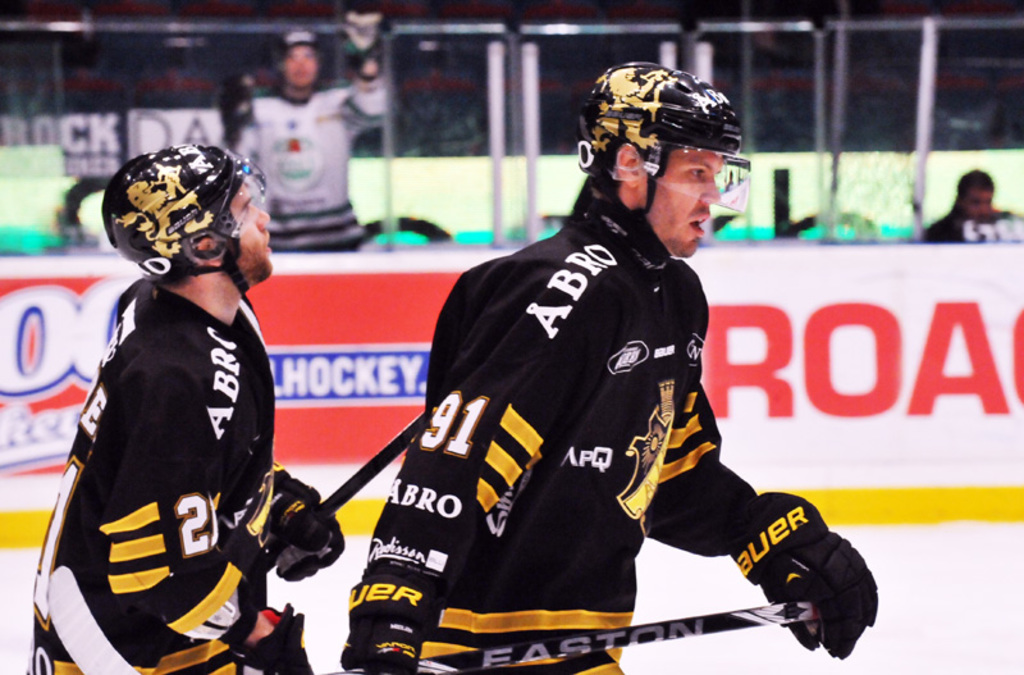Person: (341, 60, 879, 675), (20, 142, 349, 675), (232, 8, 388, 251), (923, 170, 1024, 243)
